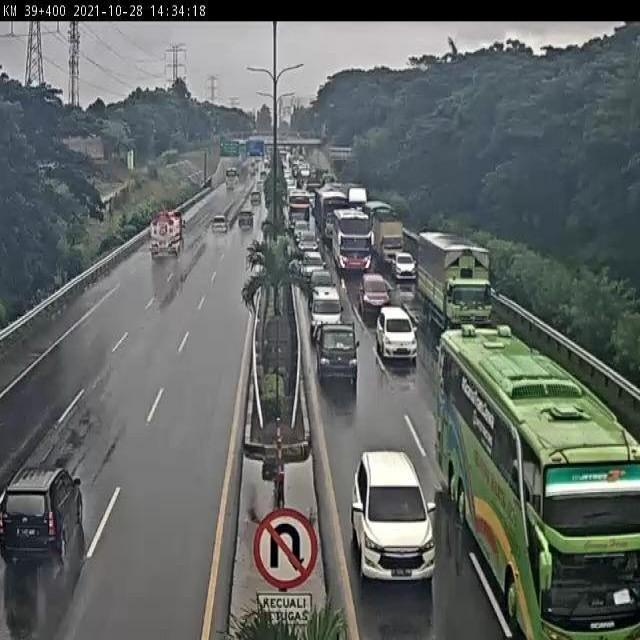big bus: (441, 325, 640, 640), (330, 205, 373, 275), (314, 190, 347, 242), (285, 191, 313, 232)
big truck: (413, 233, 492, 320), (364, 202, 404, 266)
car: (347, 455, 438, 581), (0, 467, 85, 568), (312, 309, 362, 379), (373, 301, 420, 367), (148, 212, 189, 257), (356, 267, 389, 317), (305, 270, 338, 306), (393, 250, 417, 282), (209, 210, 232, 242), (341, 250, 367, 278), (297, 238, 318, 266), (235, 207, 257, 233), (296, 224, 318, 248), (244, 194, 263, 218), (302, 250, 323, 270), (292, 220, 309, 240)
